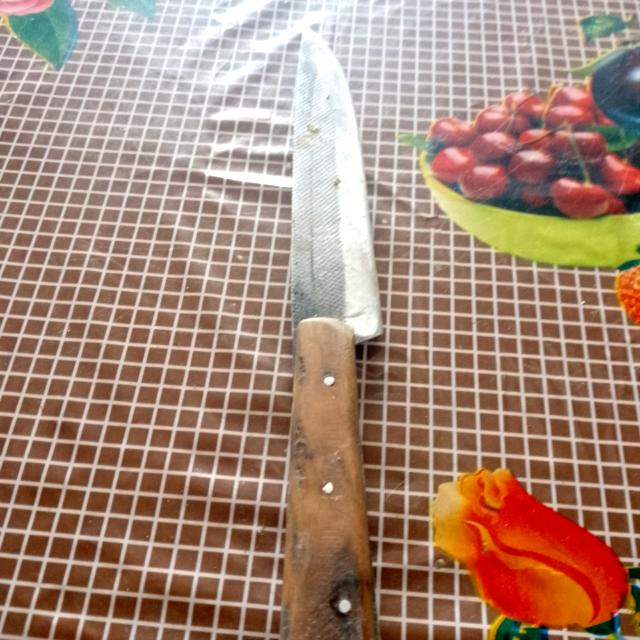Knife: (281, 31, 382, 639)
